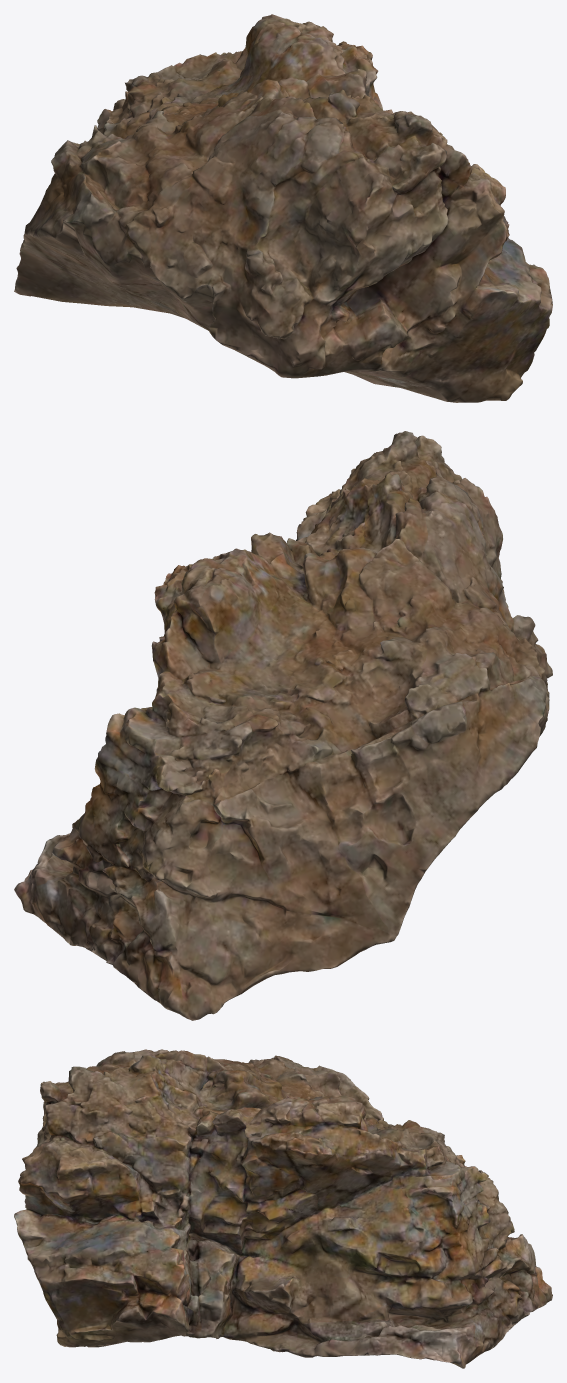
Rendered from boulder_01.glb.
3 renders of one model, top to bottom at view 1: azimuth 30°, elevation 25°; view 2: azimuth 150°, elevation 25°; view 3: azimuth 270°, elevation 25°, orthographic. The views are drawn at different scales.
Parts seen in each view (by area): view 1: boulder_01; view 2: boulder_01; view 3: boulder_01.
Part boxes in pixels (left/top/right/bottom): boulder_01: left=14, top=14, right=552, bottom=402; boulder_01: left=14, top=431, right=552, bottom=1020; boulder_01: left=14, top=1049, right=552, bottom=1368.
Bounding box in the file's own units: 1.27 × 1 × 1.83.
Materials: 1 (1 with a texture image).
